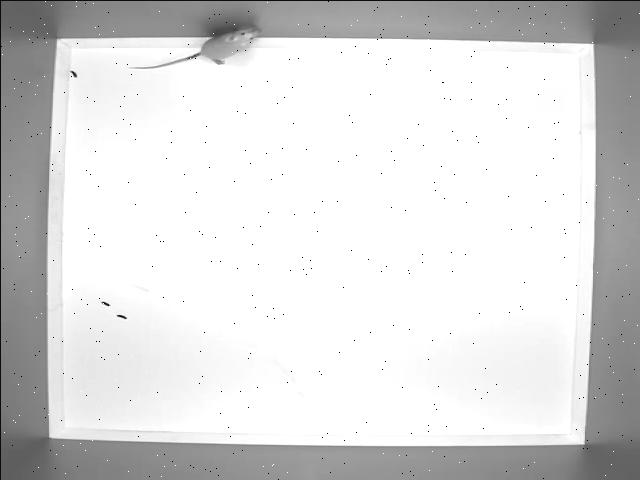Tikus: (120, 29, 262, 69)
